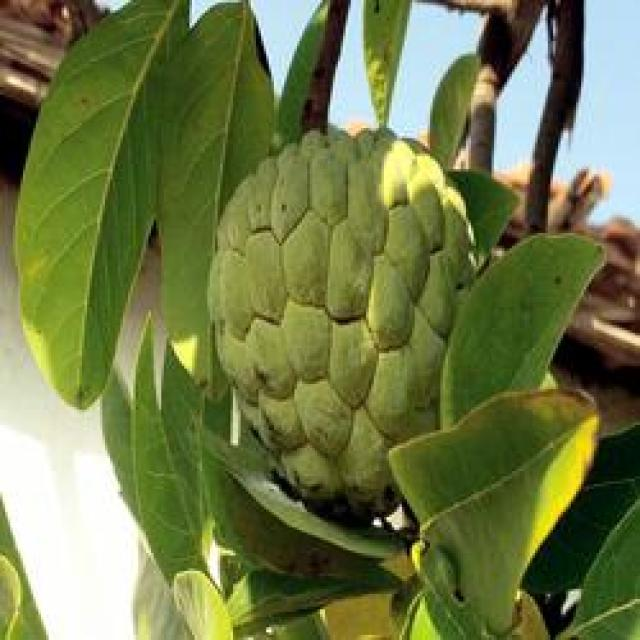apple: (202, 108, 492, 528)
